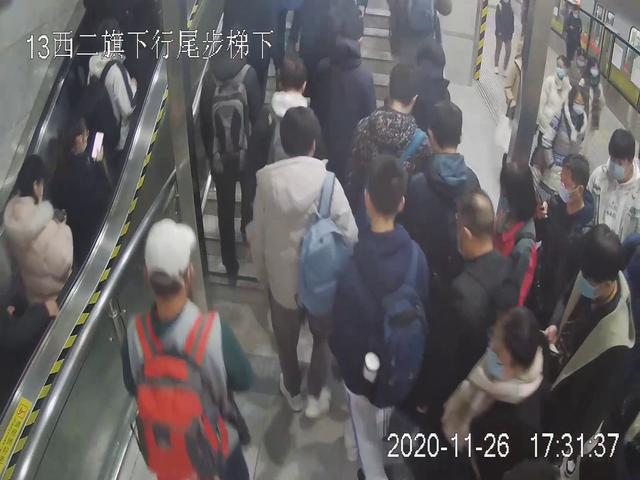person: (241, 110, 365, 425), (115, 220, 256, 478), (329, 157, 432, 480), (436, 186, 523, 435), (190, 31, 267, 282), (552, 225, 631, 463), (406, 103, 488, 270), (2, 156, 71, 337), (591, 129, 640, 269), (488, 1, 517, 76)
